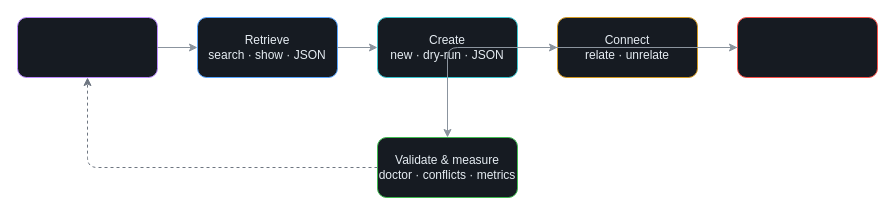
Some shapes in this 895 by 215 pixel diagram are drawn without their labels. The shapes that lost their labels are listed below. From the top down, each one's centre as x and y in pixels, then its label:
pixel 87 47: Discover collections · topics · list
pixel 807 47: Retire status · supersede
